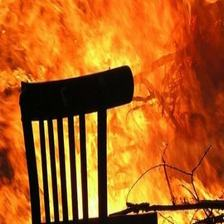fire: (3, 1, 217, 224)
